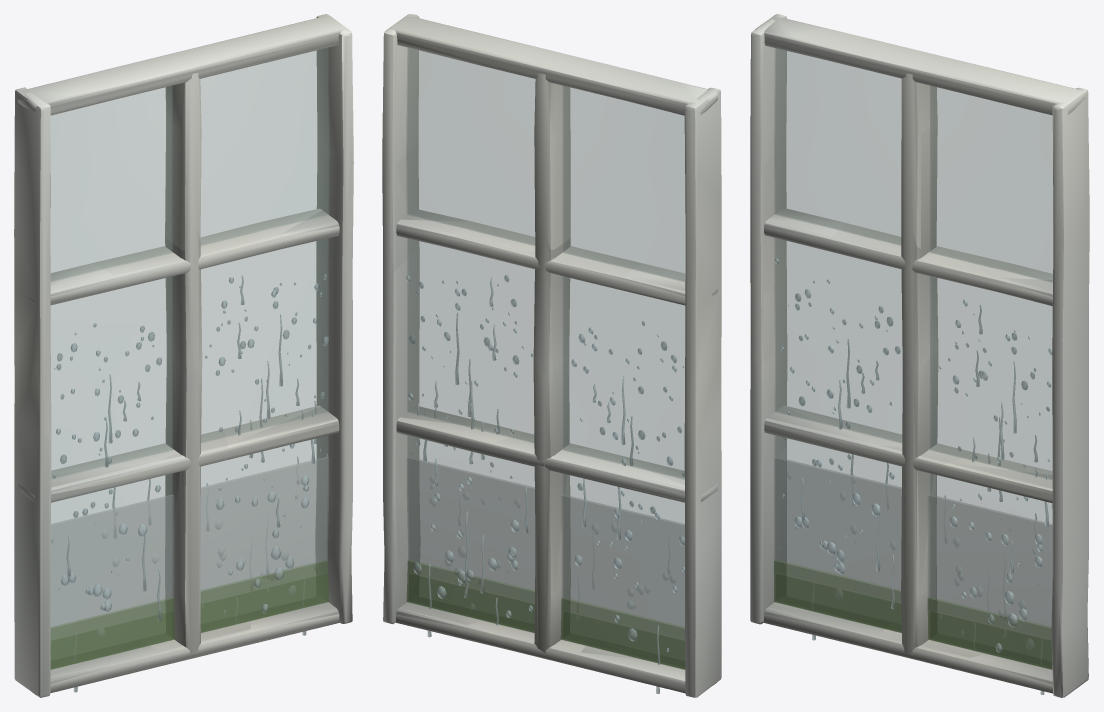
The model's file is canopy_glass_wall_lod1.glb.
3 renders of one model, left to right at view 1: azimuth 30°, elevation 25°; view 2: azimuth 150°, elevation 25°; view 3: azimuth 330°, elevation 25°, orthographic.
Parts seen in each view (by area): view 1: canopy_glass_wall.001; view 2: canopy_glass_wall.001; view 3: canopy_glass_wall.001.
Boxes of the visible parts, x1,y1,x2,y2 form: canopy_glass_wall.001: (14,14,353,697); canopy_glass_wall.001: (382,14,721,697); canopy_glass_wall.001: (750,14,1089,697).
Bounding box in the file's own units: 20.11 × 36.9 × 3.01.
